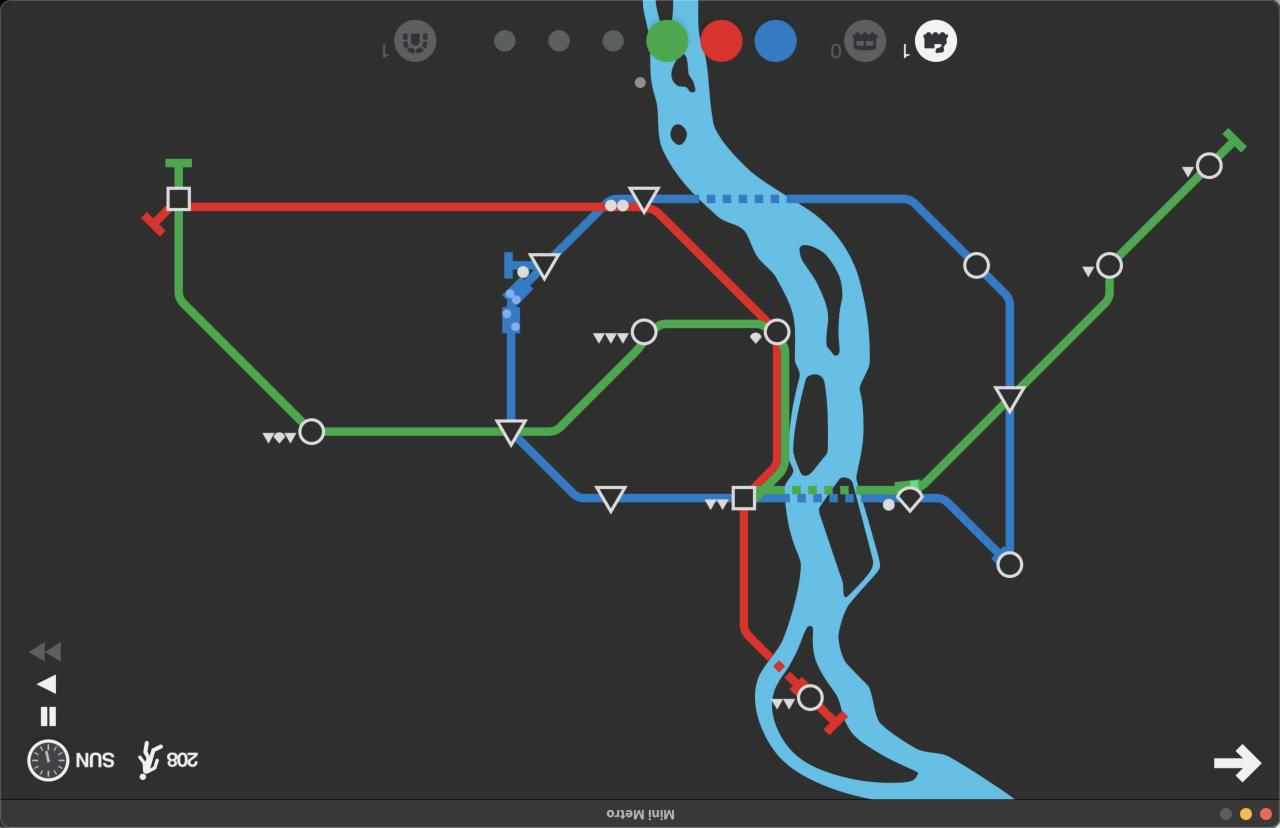BLUE LINE: (650, 193, 967, 260), (921, 413, 1016, 557), (517, 437, 599, 503), (507, 270, 538, 418), (982, 273, 1015, 386), (552, 212, 600, 253), (617, 493, 733, 503), (760, 495, 897, 502), (505, 249, 533, 279), (601, 193, 635, 201)
DARK GREEN LINE: (754, 340, 1005, 500), (173, 213, 305, 424), (517, 346, 645, 435), (1017, 277, 1113, 387), (1115, 170, 1203, 259), (325, 428, 502, 437), (656, 319, 766, 331), (1217, 128, 1247, 161), (163, 159, 191, 185)
RED LINE: (647, 206, 768, 320), (740, 512, 801, 691), (191, 201, 634, 212), (748, 347, 778, 487), (819, 706, 847, 734), (141, 209, 171, 235)
